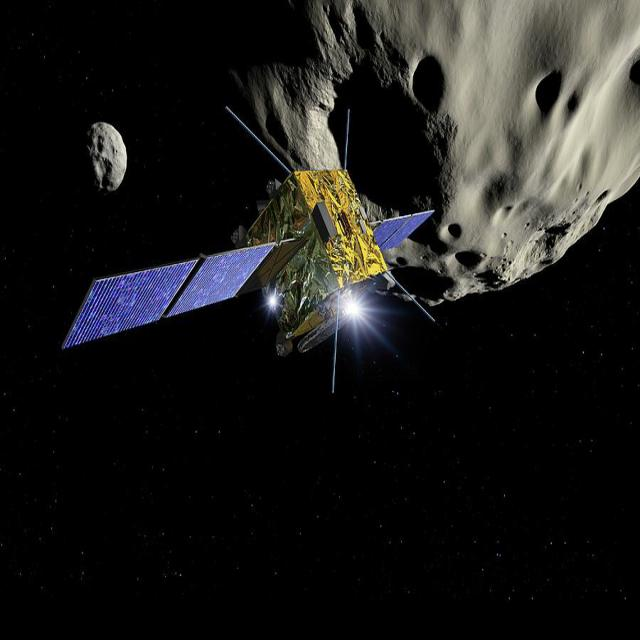large_debris: (208, 0, 640, 308), (84, 90, 128, 215)
satellite: (56, 161, 440, 396)
